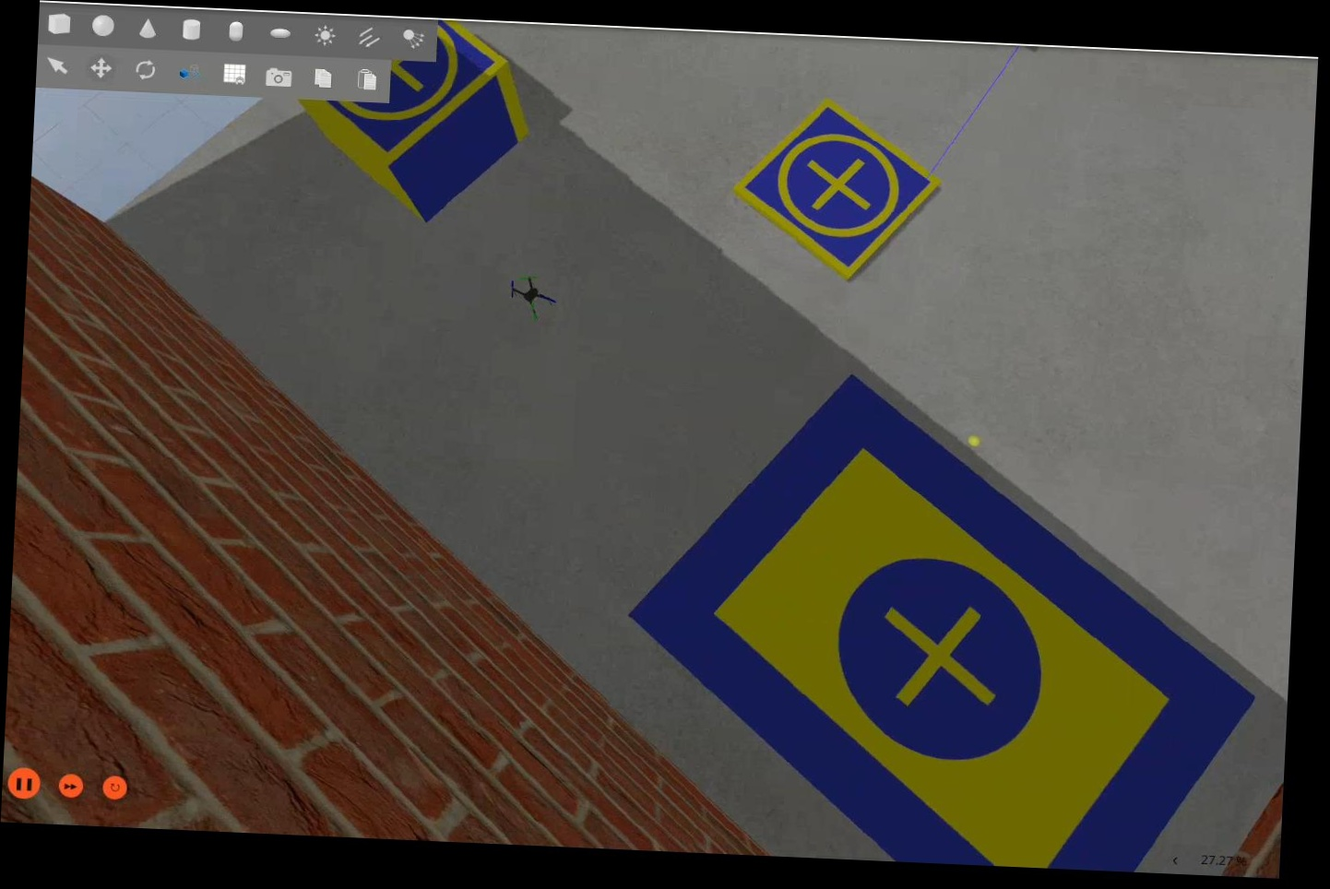large_base: (617, 362, 1268, 876)
small_base: (732, 101, 944, 282), (303, 16, 513, 166)
